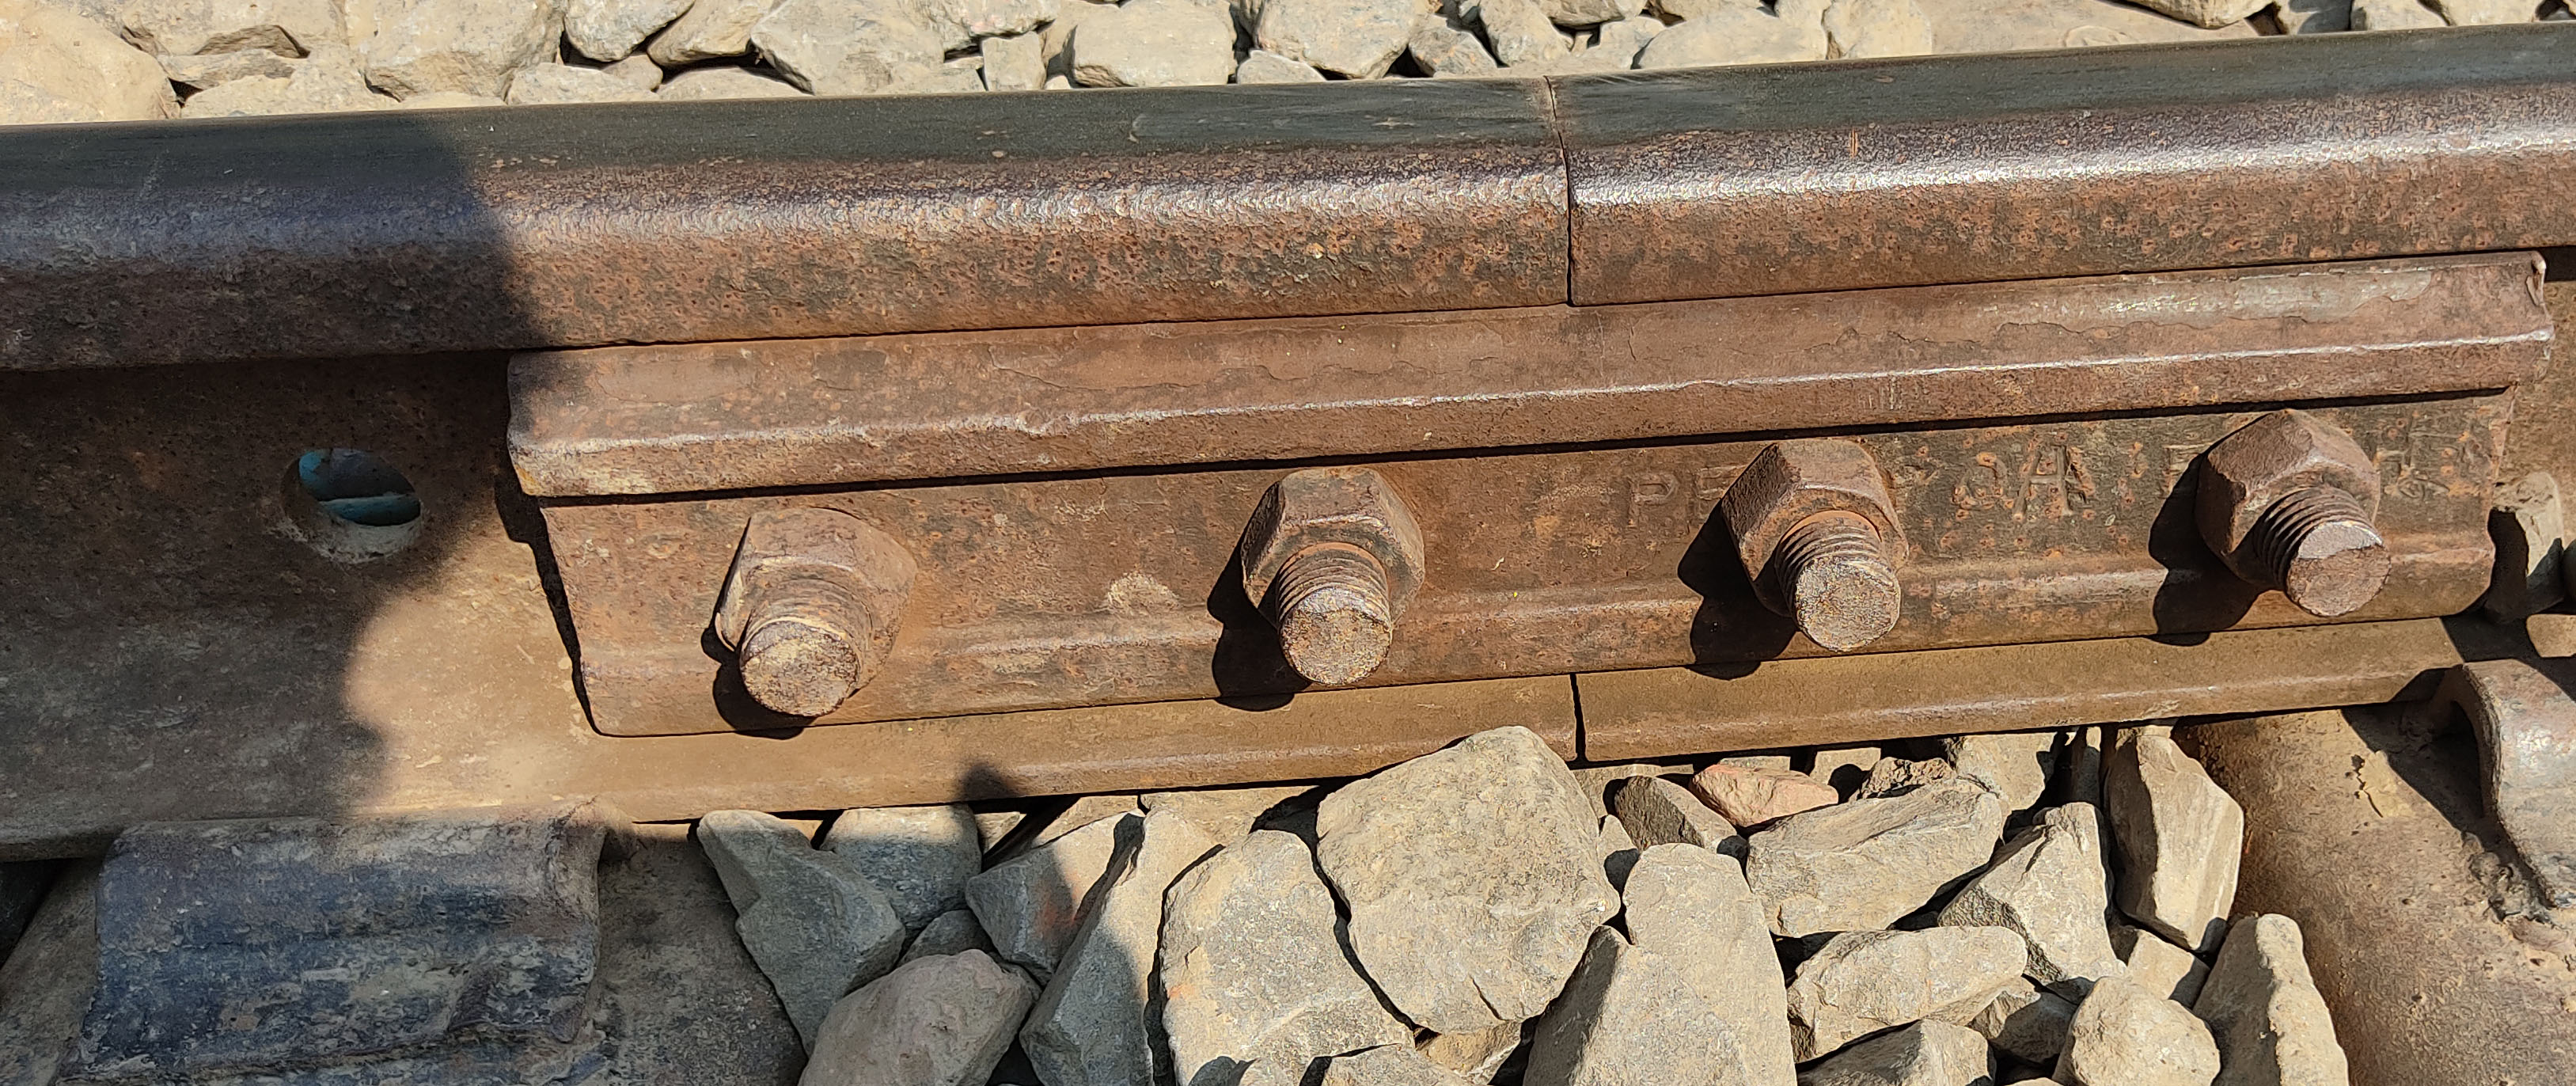error2: (1490, 48, 1648, 292)
